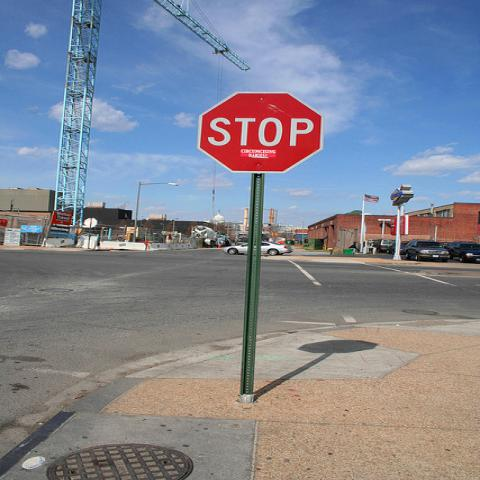car: (402, 238, 450, 263), (222, 242, 294, 255), (446, 239, 479, 265), (370, 238, 394, 253), (387, 242, 409, 255)
